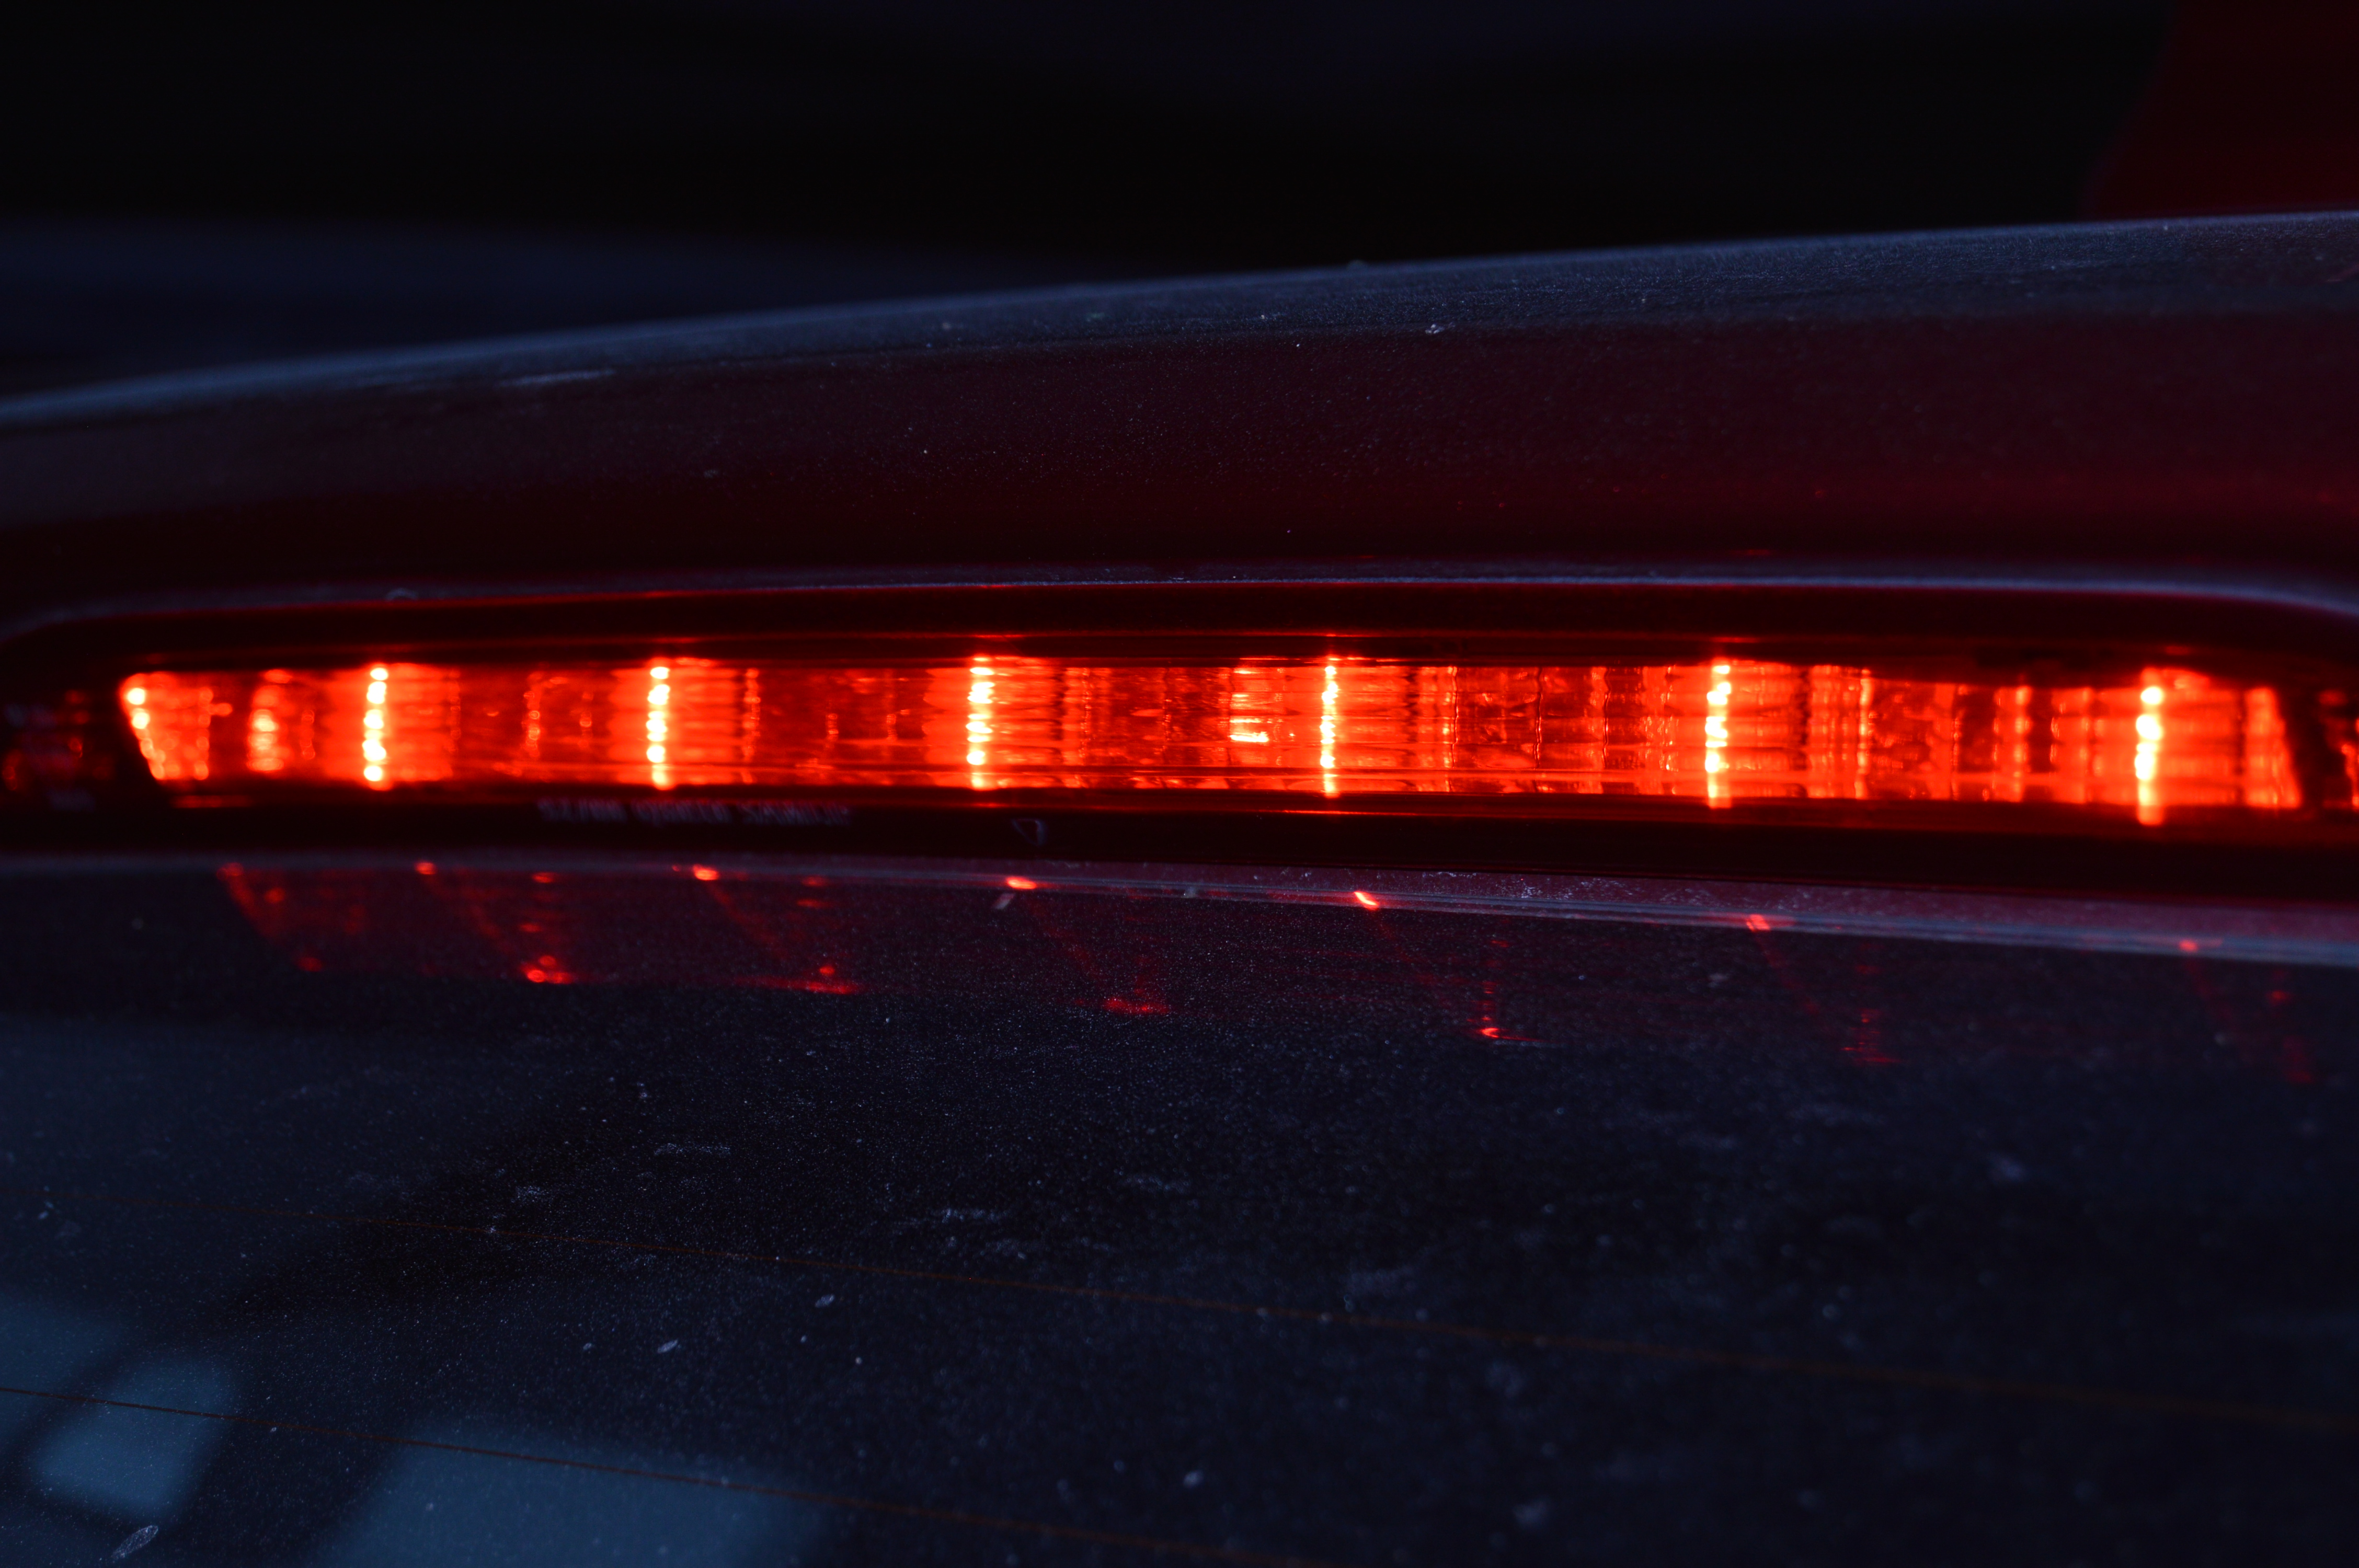Glare: (2089, 640, 2216, 836), (1675, 632, 1768, 822), (1285, 642, 1381, 793), (940, 649, 1031, 789), (616, 651, 696, 787), (338, 649, 418, 784), (108, 682, 182, 793)
